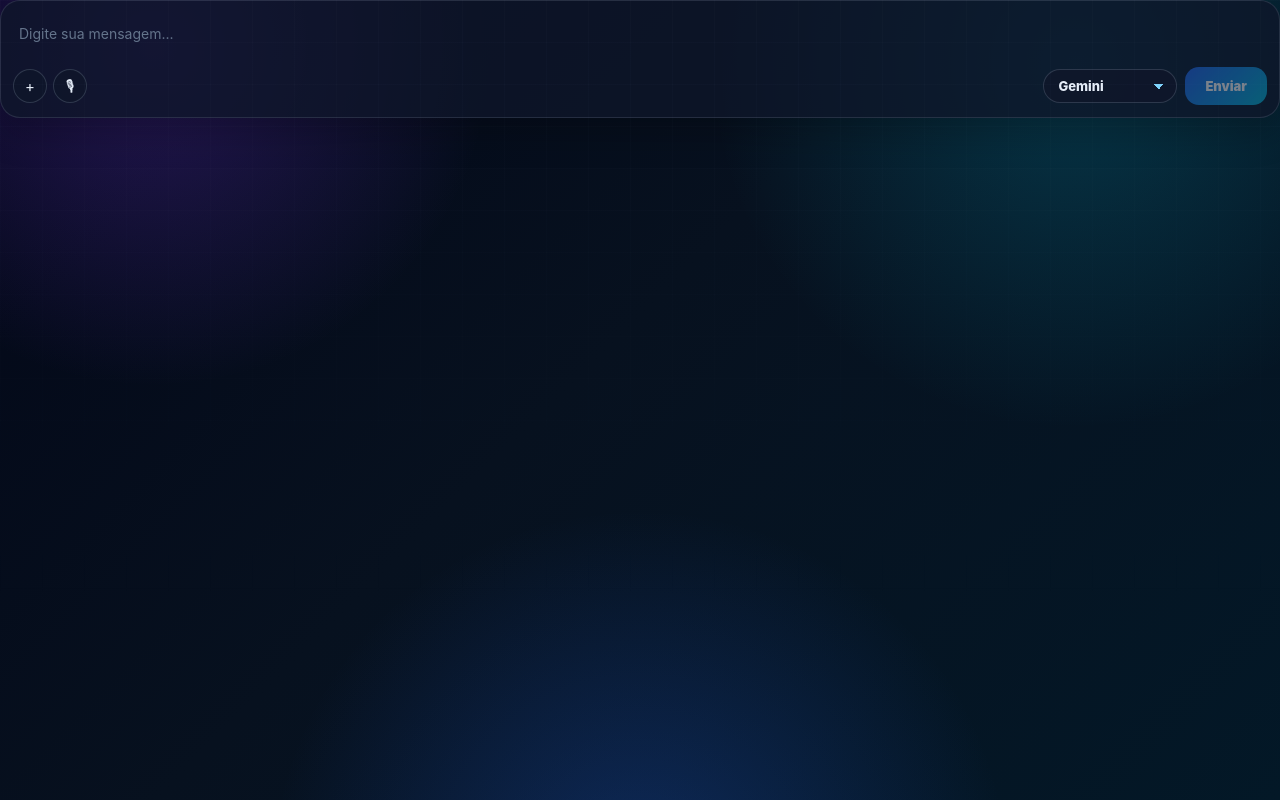
Test: composer — microfone › informa erro genérico de transcrição
Click the button named "Ditar mensagem por voz" at point(70, 86), box [53,69,87,103]
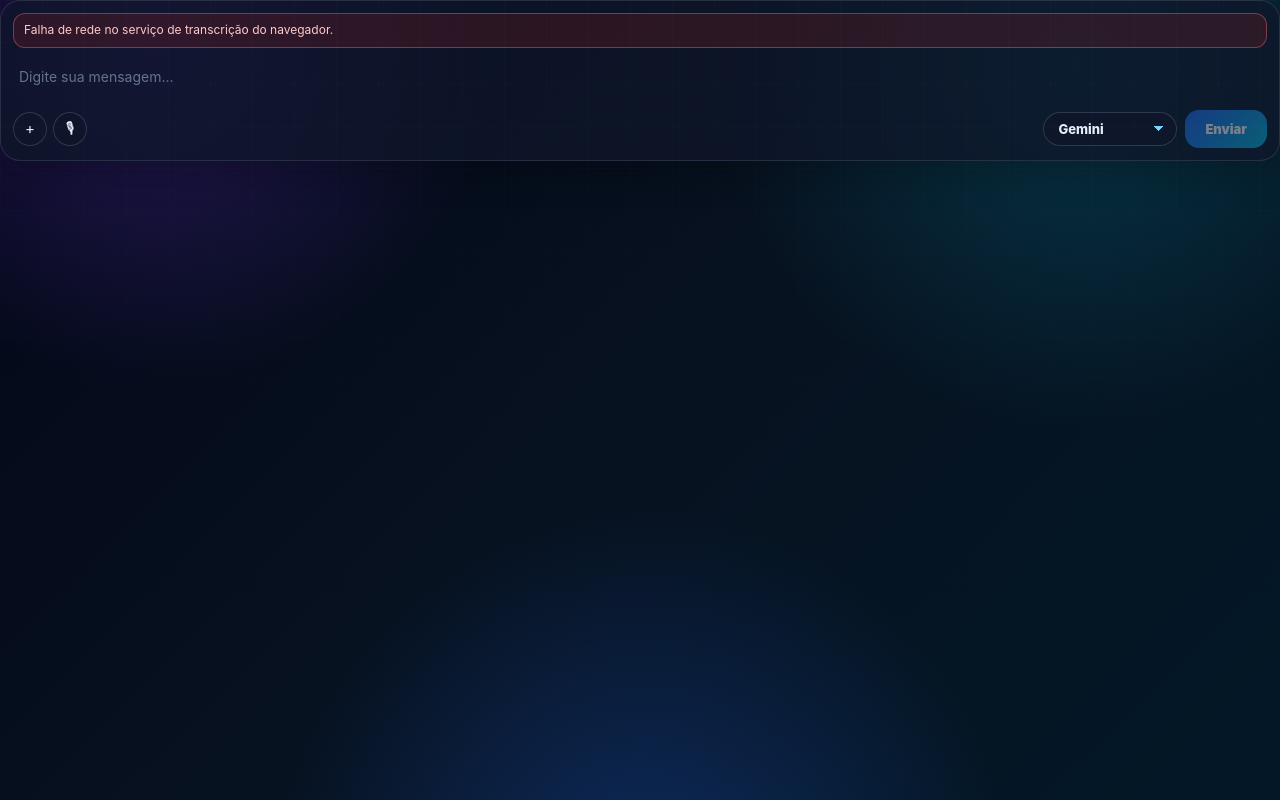
Expected: the message shows "Falha de rede", [24,22,333,37]
